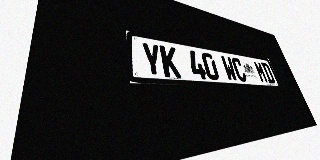0: (200, 52, 220, 80)
4: (187, 50, 207, 79)
C: (230, 57, 248, 82)
D: (261, 62, 276, 84)
K: (159, 45, 181, 78)
M: (253, 61, 269, 83)
W: (220, 55, 238, 81)
Y: (140, 42, 164, 77)
